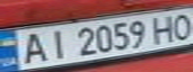0: (93, 21, 115, 54)
2: (72, 24, 96, 56)
5: (112, 19, 133, 52)
9: (127, 17, 151, 48)
A: (12, 30, 51, 65)
H: (148, 12, 181, 44)
I: (42, 27, 72, 61)
O: (166, 10, 193, 39)
